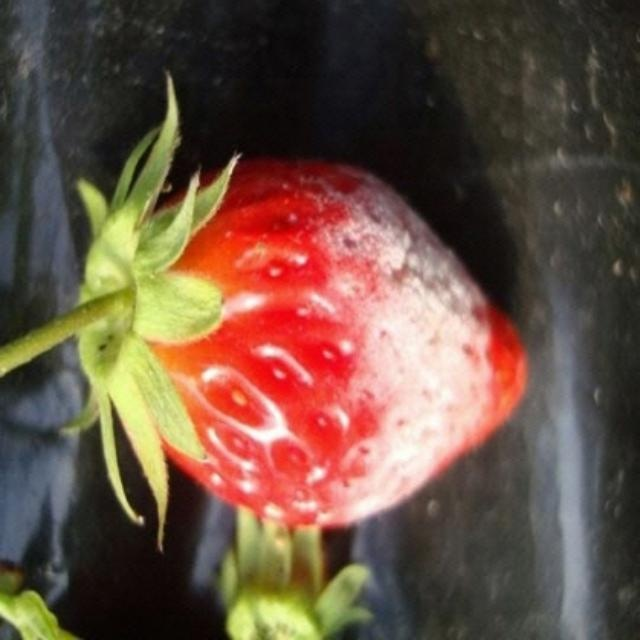Powdery Mildew Fruit: (255, 162, 504, 531)
